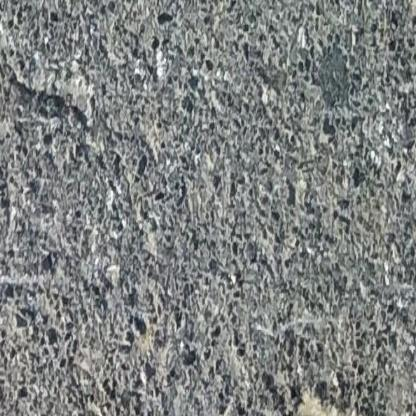Cracks: (284, 395, 371, 416)
